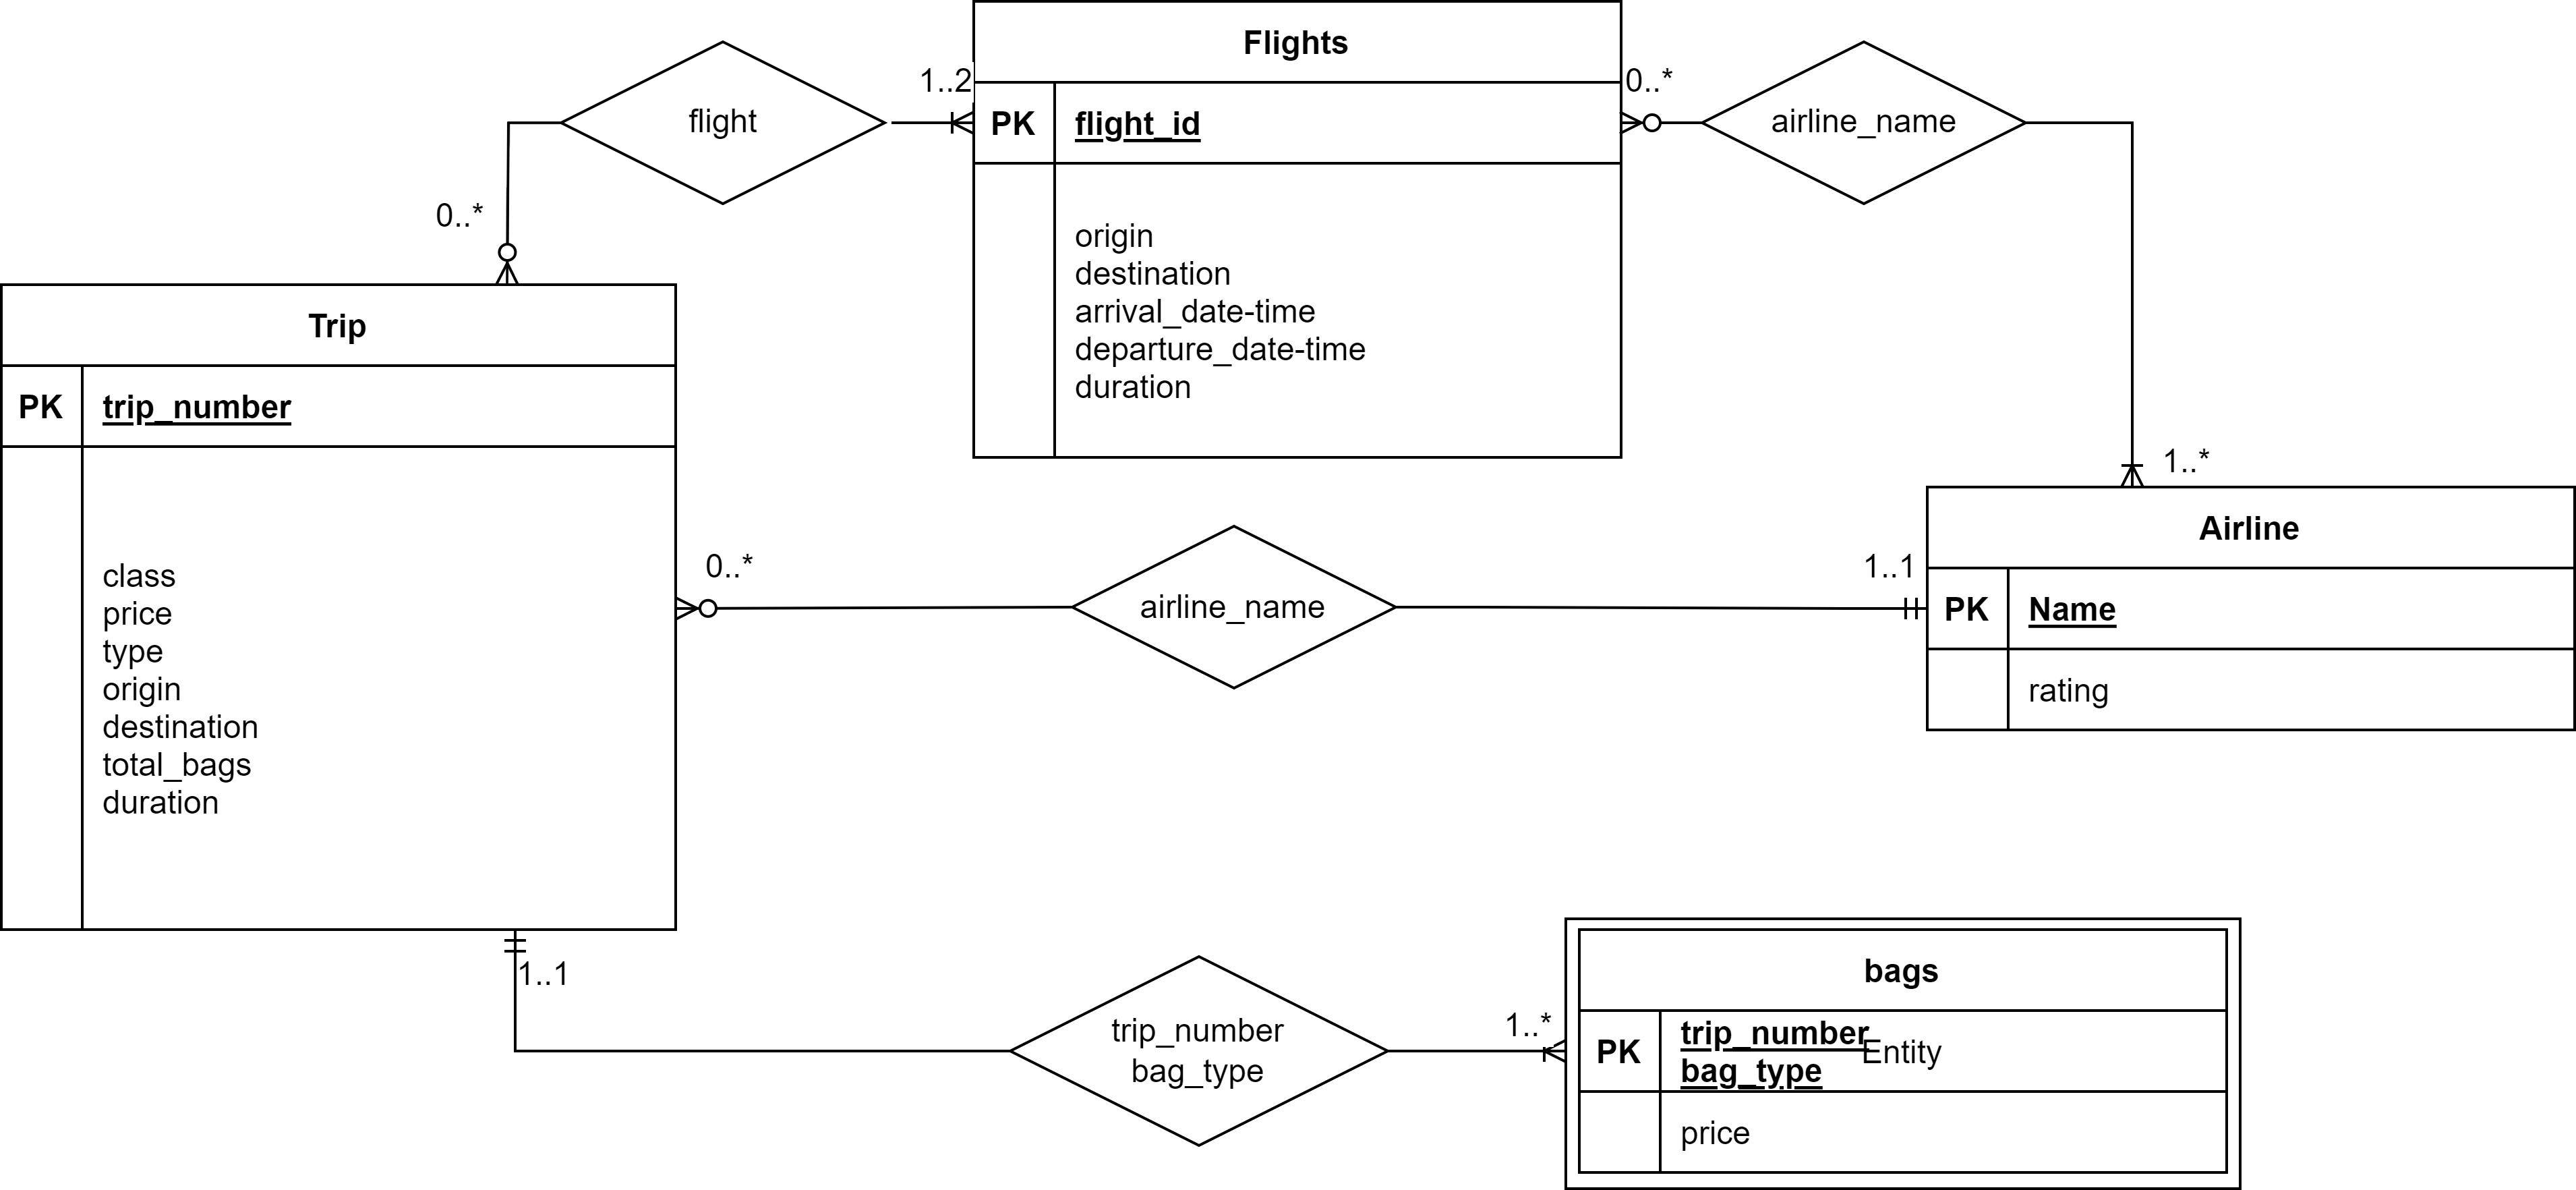entity: (0, 279, 678, 929), (971, 0, 1620, 464), (1920, 477, 2576, 736)
relationship: (1014, 953, 1390, 1147), (560, 43, 889, 202), (1076, 523, 1390, 689), (1709, 46, 2027, 207)
weakentity: (1552, 916, 2241, 1190)
